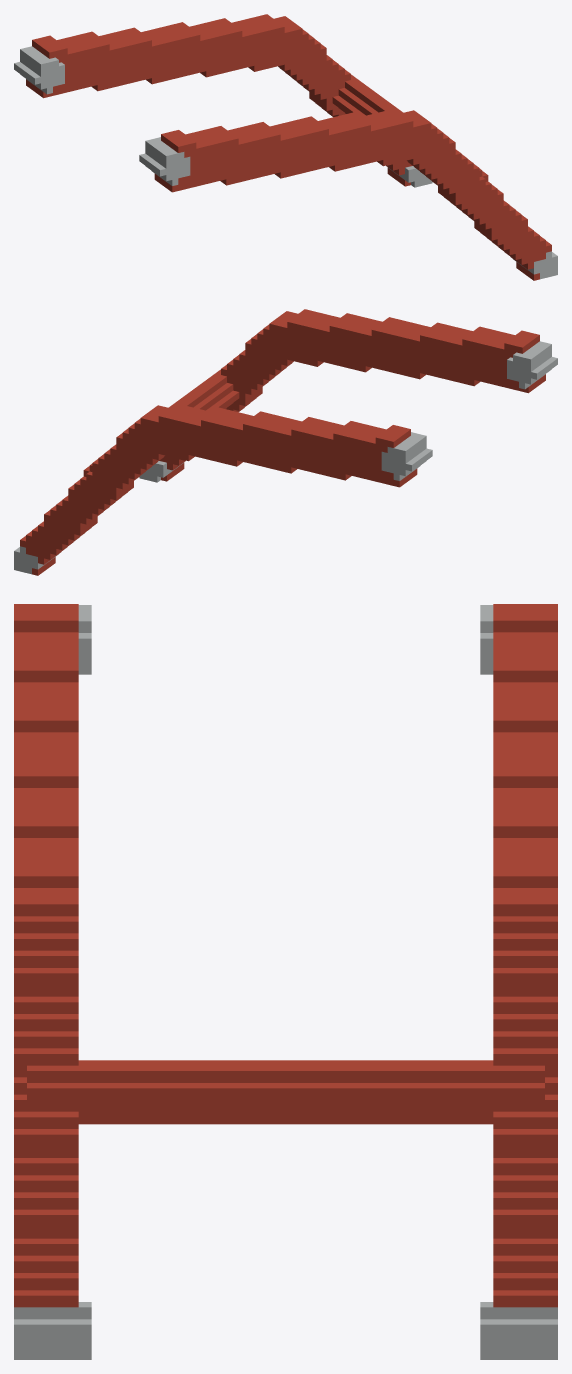
Rendered from skid_steer_lift_arms.glb.
3 renders of one model, top to bottom at view 1: azimuth 30°, elevation 25°; view 2: azimuth 150°, elevation 25°; view 3: azimuth 270°, elevation 25°, orthographic. The views are drawn at different scales.
Visible parts, largest first — view 1: body:compound; view 2: body:compound; view 3: body:compound.
Part boxes in pixels (bbox=[...]): body:compound: bbox=[14, 14, 557, 280]; body:compound: bbox=[14, 309, 557, 575]; body:compound: bbox=[14, 604, 557, 1359].
Size of the model in its own units: 2.06 by 1.09 by 1.31.
